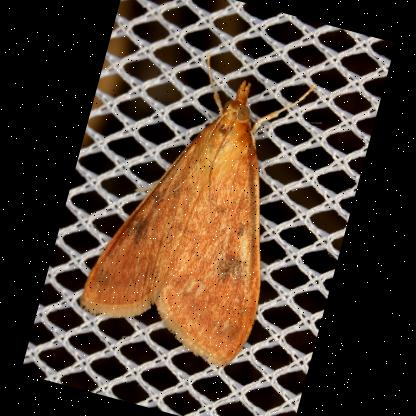Asian Corn Borer Moth: (68, 35, 324, 377)
